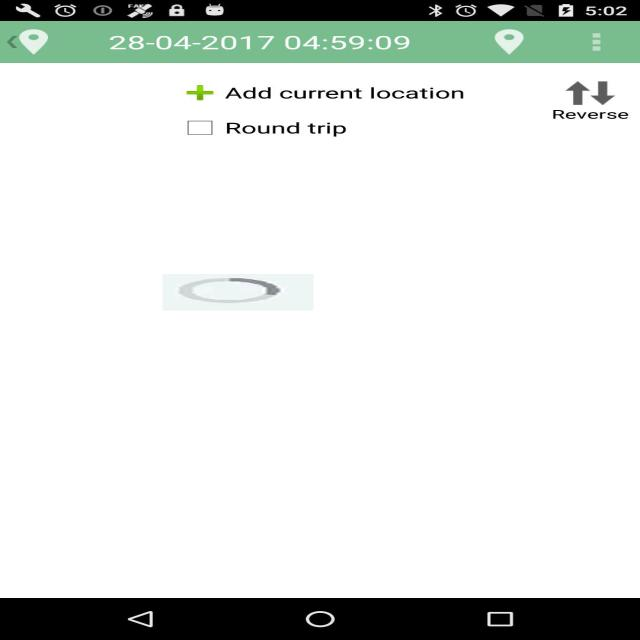misdirection: (162, 274, 314, 311)
